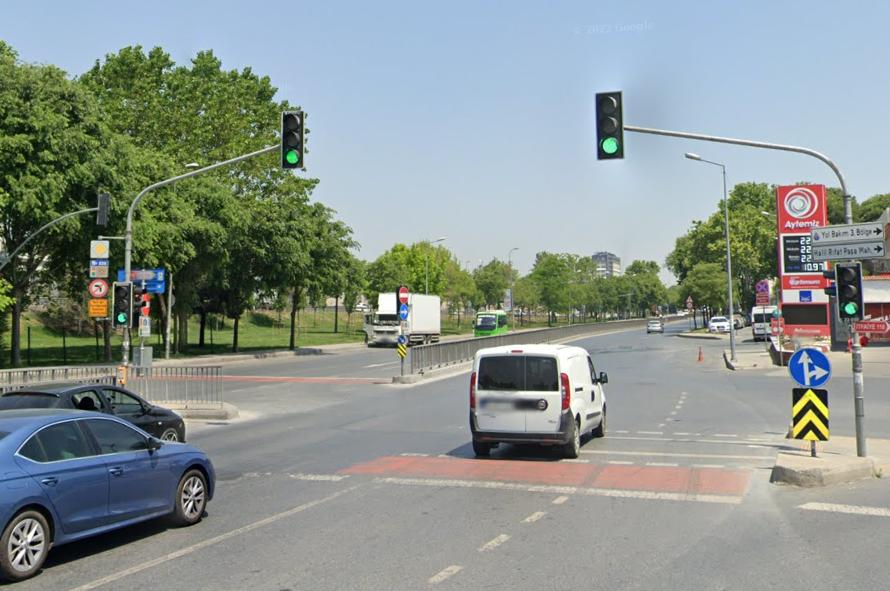greenlight: (595, 93, 622, 152), (837, 264, 862, 314), (283, 113, 302, 165), (114, 283, 130, 326)
leftturnsareforbidden: (90, 280, 108, 296)
